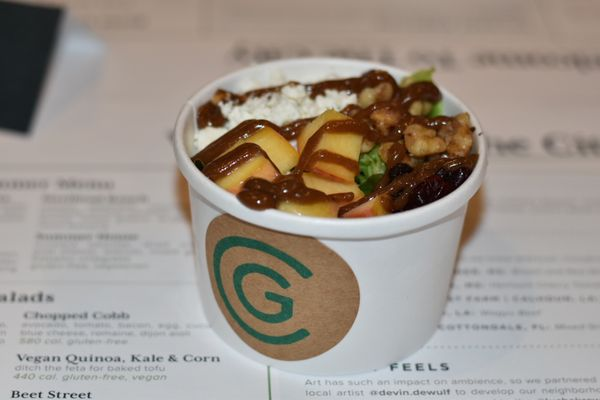sushi: (170, 58, 490, 371)
